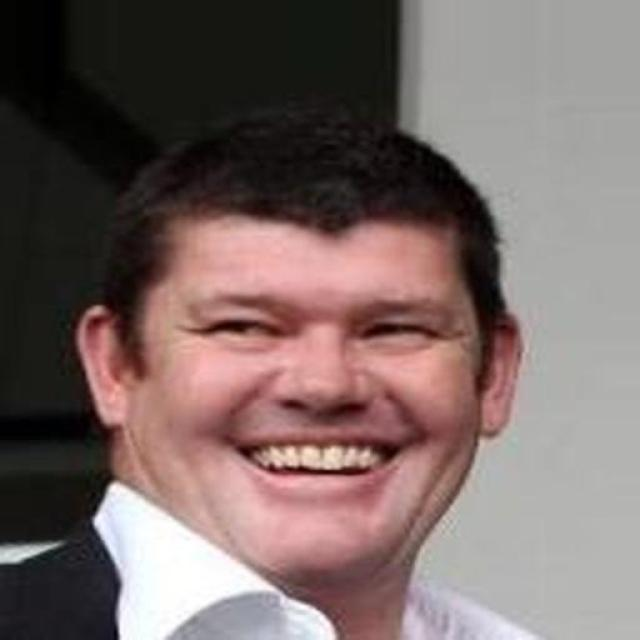bareface: (130, 181, 482, 604)
